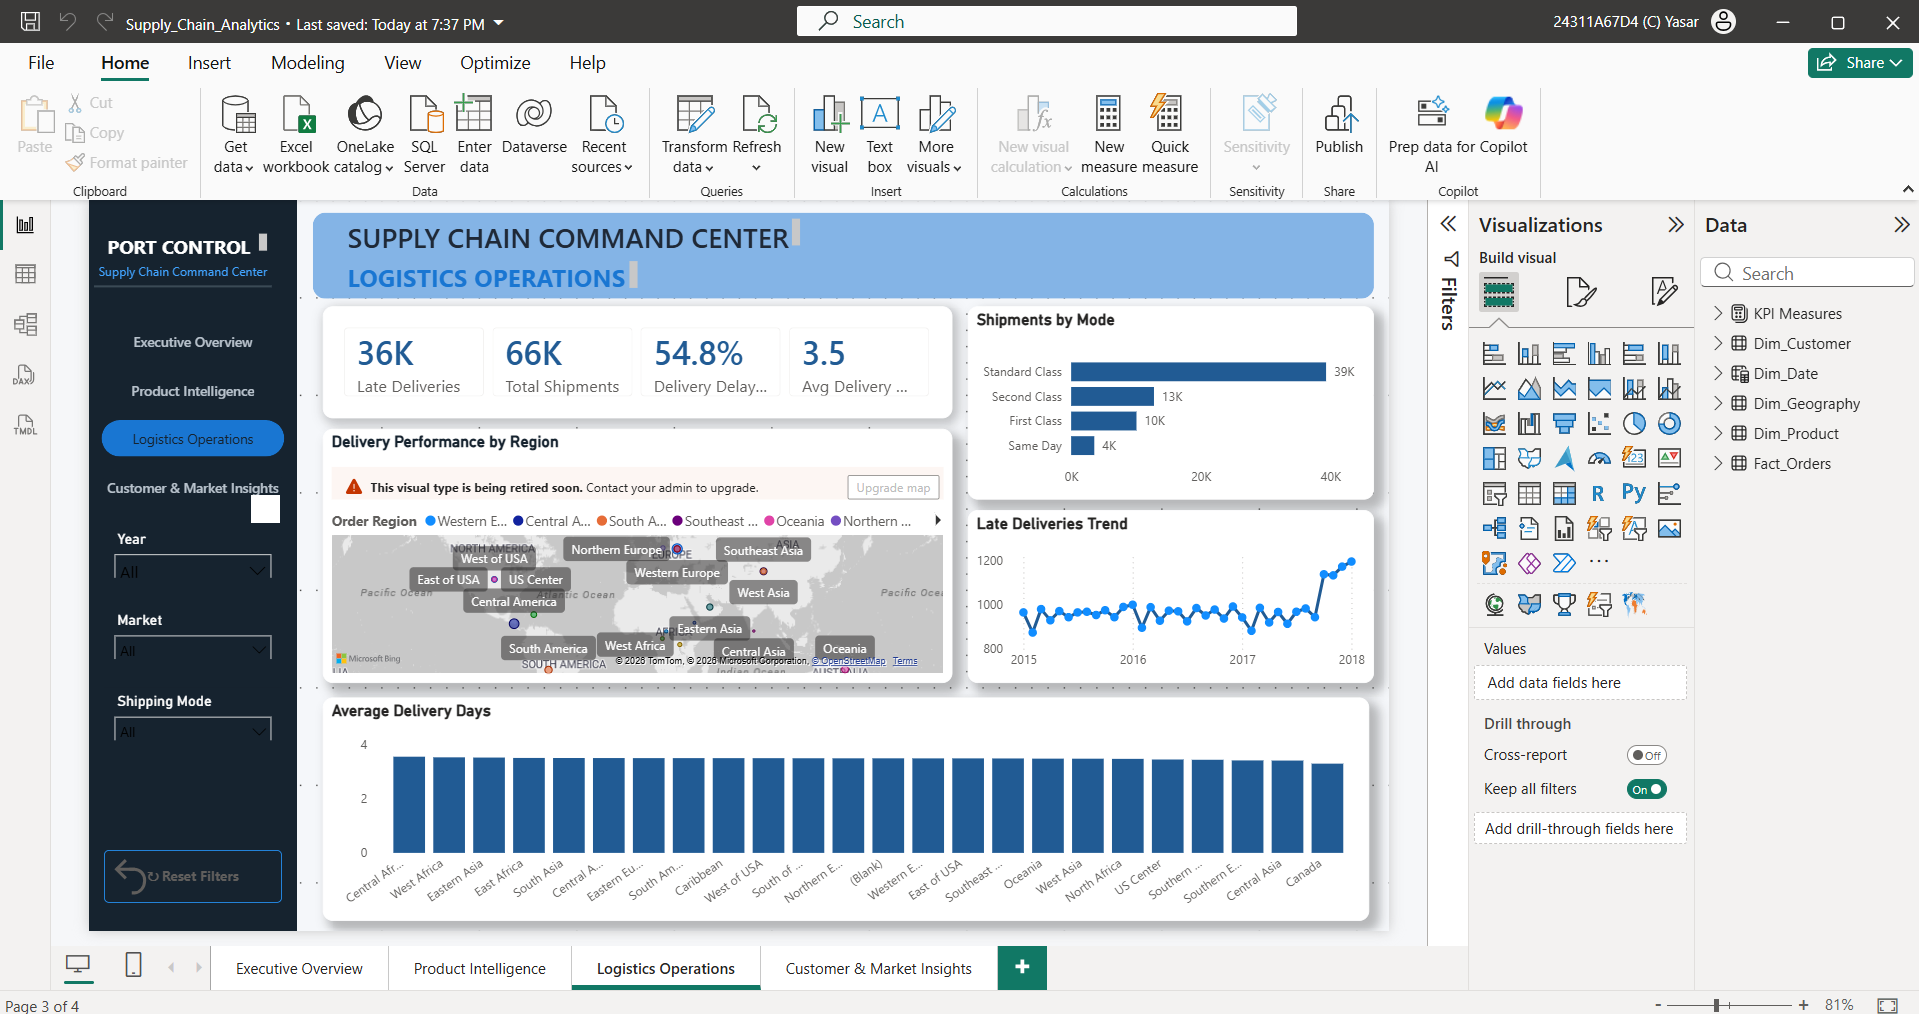

This screenshot's page, from the dashboard's own definition file:
{"tool":"powerbi","page":{"name":"Logistics Operations","canvas":[1280,720],"ordinal":2},"visuals":[{"type":"shape","box":[0,0,205,720],"z":0},{"type":"textbox","box":[5,28,175,30],"z":1000},{"type":"textbox","box":[0,55,185,28],"z":2000},{"type":"shape","box":[5,78,175,15],"z":3000},{"type":"pageNavigator","box":[12,120,180,180],"z":4000},{"type":"shape","box":[220,12,1045,85],"z":5000},{"type":"textbox","box":[245,13,460,40],"z":6000},{"type":"textbox","box":[245,55,300,39],"z":7000},{"type":"cardVisual","fields":{"Data":["KPI Measures.Late Deliveries","KPI Measures.Total Shipments","KPI Measures.Delivery Delay %","KPI Measures.Avg Delivery Days"]},"box":[230,105,620,110],"z":11000},{"type":"map","title":"Delivery Performance by Region","fields":{"Category":["Dim_Geography.Order Region"],"Series":["Dim_Geography.Order Region"],"Size":["KPI Measures.Late Deliveries"]},"box":[230,225,620,250],"z":16000},{"type":"clusteredBarChart","title":"Shipments by Mode","fields":{"Category":["Fact_Orders.Shipping Mode"],"Y":["KPI Measures.Total Shipments"]},"box":[865,105,400,190],"z":17000},{"type":"lineChart","title":"Late Deliveries Trend","fields":{"Category":["Dim_Date.Date.Variation.Date Hierarchy.Year","Dim_Date.Date.Variation.Date Hierarchy.Month"],"Y":["KPI Measures.Late Deliveries"]},"box":[865,305,400,170],"z":18000},{"type":"clusteredColumnChart","title":"Average Delivery Days","fields":{"Category":["Dim_Geography.Order Region"],"Y":["KPI Measures.Avg Delivery Days"]},"box":[230,490,1030,220],"z":19000},{"type":"slicer","fields":{"Values":["Dim_Date.Year"]},"box":[15,320,175,52],"z":19001},{"type":"slicer","fields":{"Values":["Dim_Geography.Market"]},"box":[15,400,175,52],"z":19002},{"type":"slicer","fields":{"Values":["Fact_Orders.Shipping Mode"]},"box":[15,480,175,52],"z":19003},{"type":"actionButton","box":[15,640,175,52],"z":19005}]}

Visuals, with their boxes on the page's 1280x720 design canvas (x1, y1, x2, y2). These are canvas units, not pixel positions in the 1919x1014 screenshot, which may show the page scaled, cropped or inside an application window:
shape: pyautogui.locateOnScreen(0, 0, 205, 720)
textbox: pyautogui.locateOnScreen(5, 28, 180, 58)
textbox: pyautogui.locateOnScreen(0, 55, 185, 83)
shape: pyautogui.locateOnScreen(5, 78, 180, 93)
pageNavigator: pyautogui.locateOnScreen(12, 120, 192, 300)
shape: pyautogui.locateOnScreen(220, 12, 1265, 97)
textbox: pyautogui.locateOnScreen(245, 13, 705, 53)
textbox: pyautogui.locateOnScreen(245, 55, 545, 94)
cardVisual - KPI Measures.Late Deliveries x KPI Measures.Total Shipments: pyautogui.locateOnScreen(230, 105, 850, 215)
"Delivery Performance by Region" map: pyautogui.locateOnScreen(230, 225, 850, 475)
"Shipments by Mode" clusteredBarChart: pyautogui.locateOnScreen(865, 105, 1265, 295)
"Late Deliveries Trend" lineChart: pyautogui.locateOnScreen(865, 305, 1265, 475)
"Average Delivery Days" clusteredColumnChart: pyautogui.locateOnScreen(230, 490, 1260, 710)
slicer - Dim_Date.Year: pyautogui.locateOnScreen(15, 320, 190, 372)
slicer - Dim_Geography.Market: pyautogui.locateOnScreen(15, 400, 190, 452)
slicer - Fact_Orders.Shipping Mode: pyautogui.locateOnScreen(15, 480, 190, 532)
actionButton: pyautogui.locateOnScreen(15, 640, 190, 692)
